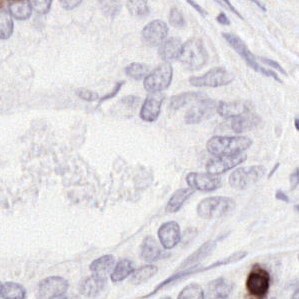Lymphocyte: (247, 267, 271, 297)
